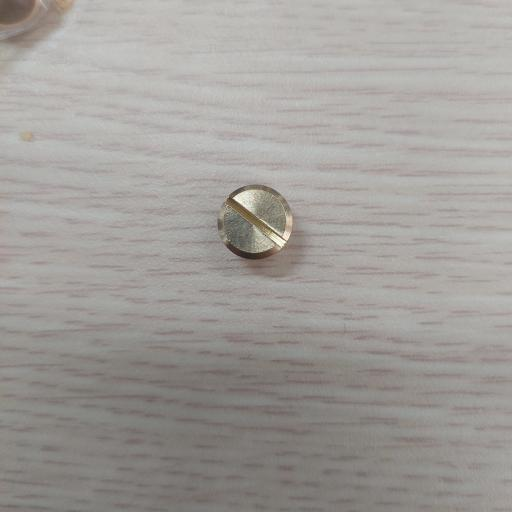Slotted: (213, 183, 295, 258)
